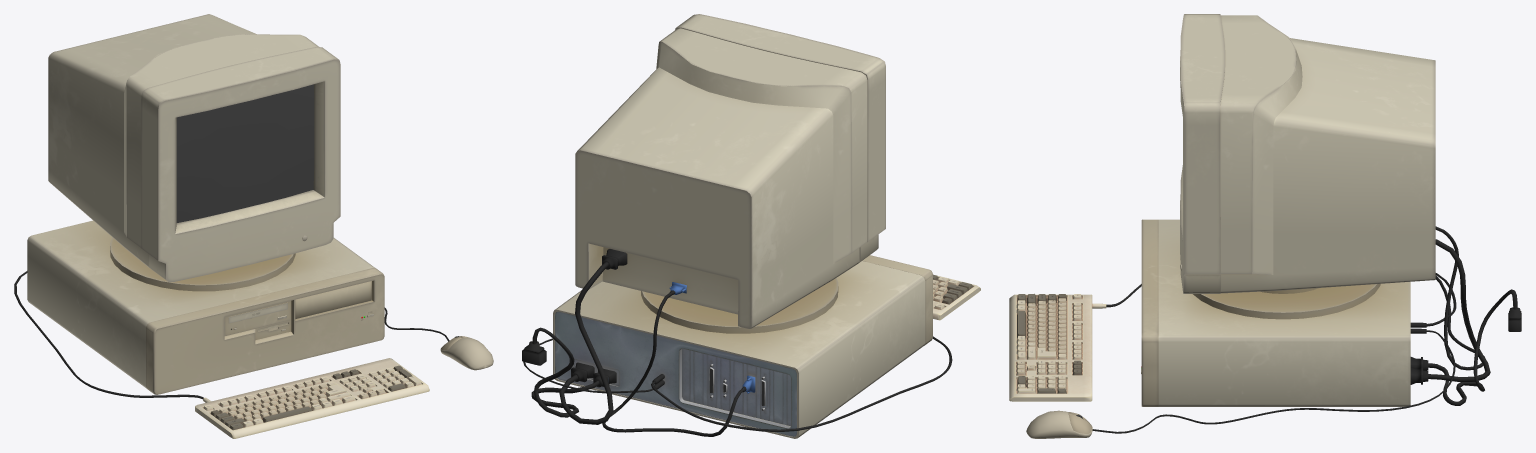
The picture shows the model from 3 angles, left to right: view 1: azimuth 30°, elevation 25°; view 2: azimuth 150°, elevation 25°; view 3: azimuth 270°, elevation 25°; orthographic projection. The views are drawn at different scales.
Parts seen in each view (by area): view 1: S_Computadora, S_computadora_cables; view 2: S_Computadora, S_computadora_cables; view 3: S_Computadora, S_computadora_cables.
Boxes of the visible parts, x1,y1,x2,y2 form: S_Computadora: (27,14,493,438); S_computadora_cables: (14,271,449,399); S_Computadora: (553,14,980,438); S_computadora_cables: (522,249,952,436); S_Computadora: (1009,14,1435,438); S_computadora_cables: (1092,226,1521,433).
Size of the model in its own units: 72.1 by 57.16 by 90.87.
